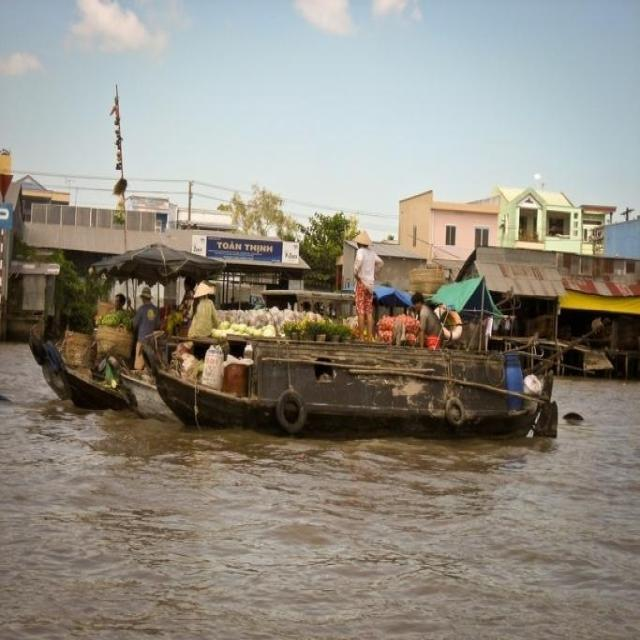boat: (126, 329, 566, 442)
